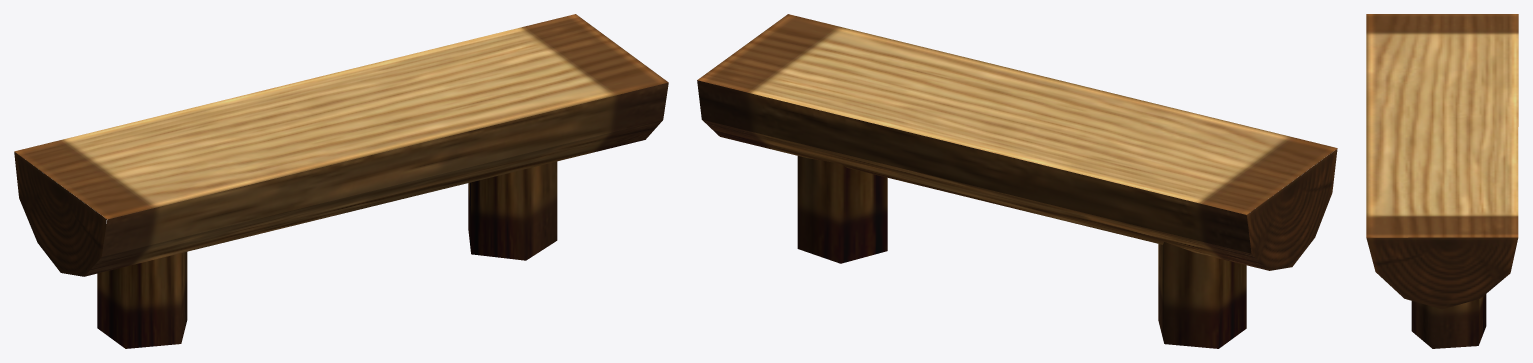
Rendered from c_SEbench04.glb.
The picture shows the model from 3 angles, left to right: view 1: azimuth 30°, elevation 25°; view 2: azimuth 150°, elevation 25°; view 3: azimuth 270°, elevation 25°; orthographic projection. The views are drawn at different scales.
Visible parts, largest first — view 1: c_SEbench04; view 2: c_SEbench04; view 3: c_SEbench04.
Boxes of the visible parts, bbox=[...] form: c_SEbench04: bbox=[14, 14, 668, 348]; c_SEbench04: bbox=[697, 14, 1337, 348]; c_SEbench04: bbox=[1366, 14, 1518, 348].
Bounding box in the file's own units: 2.17 × 0.6301 × 0.6223.
1 material, 1 textured.
